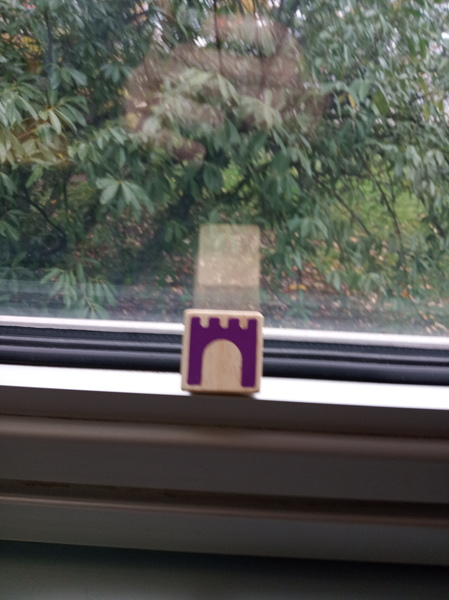violet: (182, 308, 267, 395)
